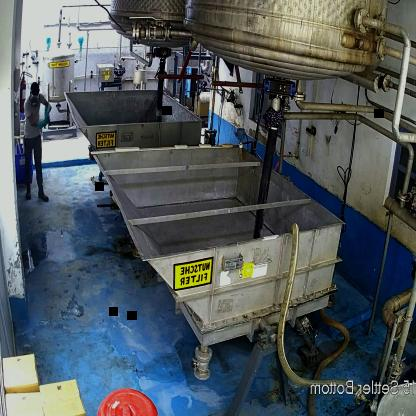shoes: (36, 186, 52, 204), (23, 182, 34, 202)
